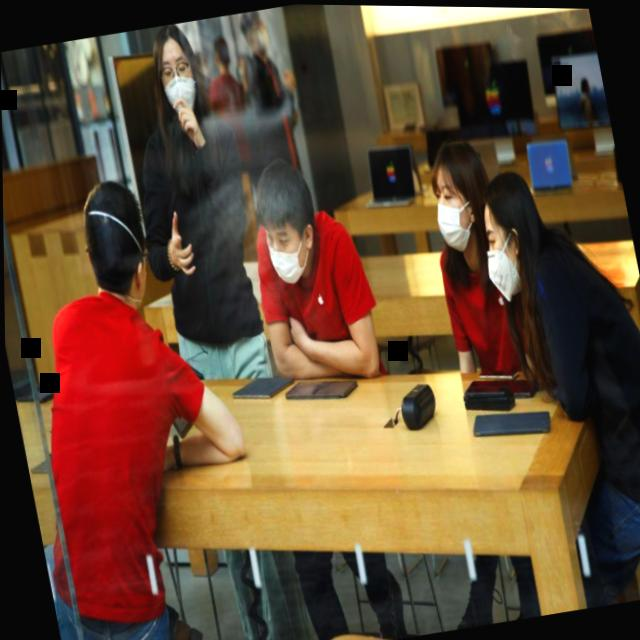Mask: (236, 137, 331, 297), (466, 161, 556, 312), (413, 119, 501, 264), (140, 19, 213, 140)
